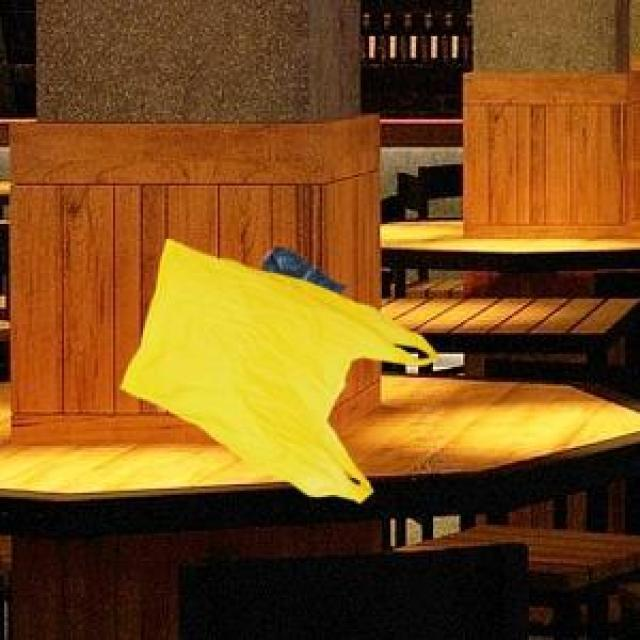miscellaneous trash: (259, 243, 341, 290)
